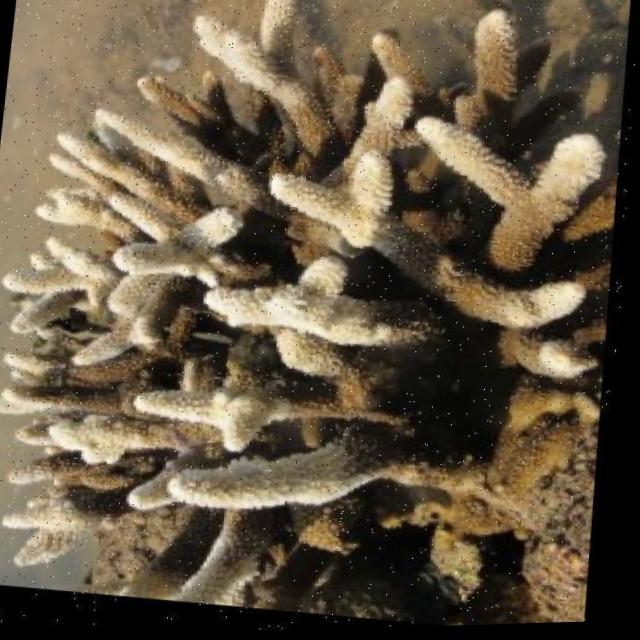Bleached Coral: (0, 3, 639, 639)
